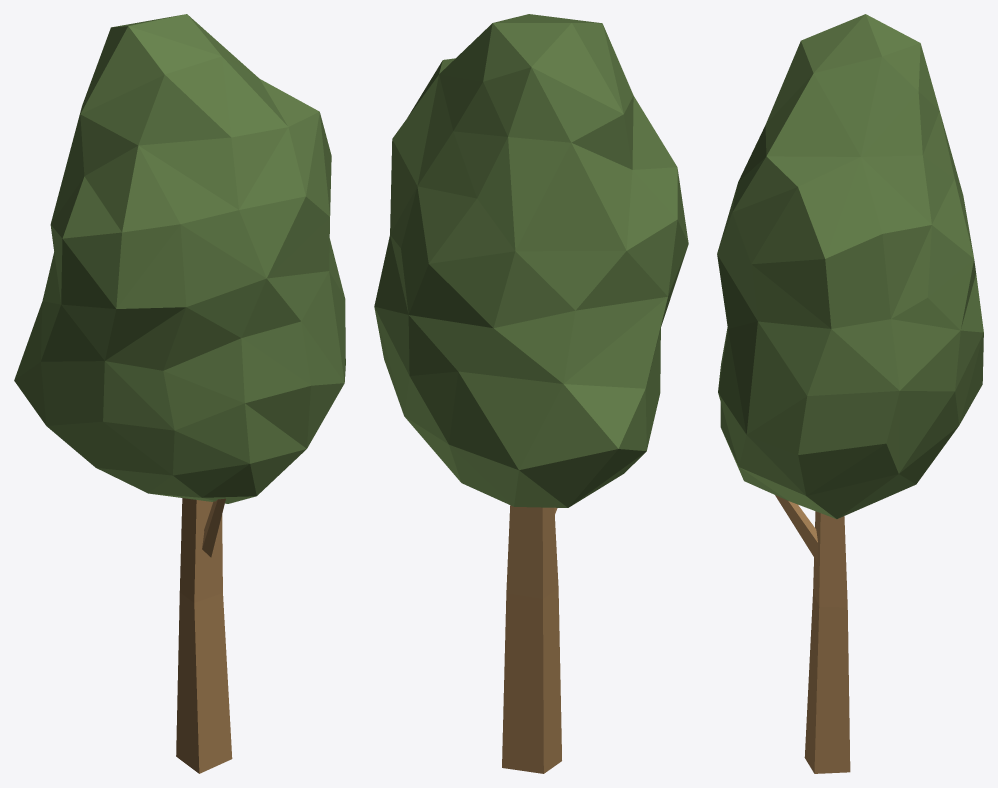
Rendered from arbre1.fbx.
3 views of the same model, side by side, from view 1: azimuth 30°, elevation 25°; view 2: azimuth 150°, elevation 25°; view 3: azimuth 270°, elevation 25° (orthographic). The views are drawn at different scales.
Visible parts, largest first — view 1: tree_03; view 2: tree_03; view 3: tree_03.
Boxes of the visible parts, x1,y1,x2,y2 form: tree_03: [14, 14, 345, 773]; tree_03: [374, 14, 688, 773]; tree_03: [717, 14, 983, 773].
Bounding box in the file's own units: 222 × 576 × 192.
